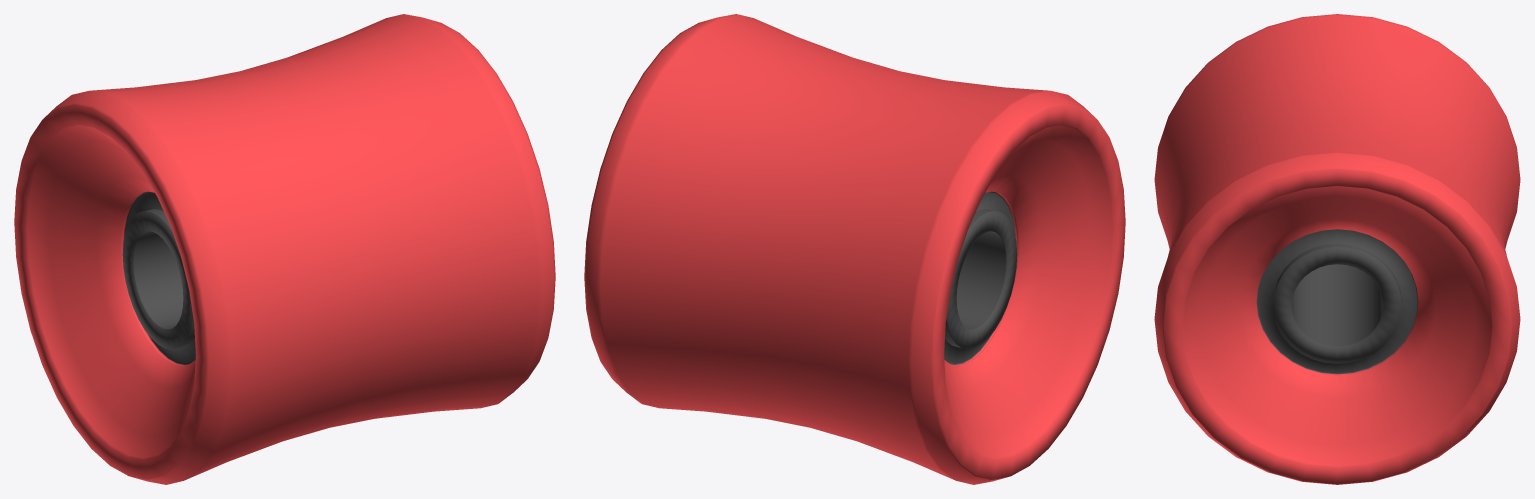
The model's file is RoueCollège.fbx.
3 renders of one model, left to right at view 1: azimuth 30°, elevation 25°; view 2: azimuth 150°, elevation 25°; view 3: azimuth 270°, elevation 25°, orthographic. The views are drawn at different scales.
Visible parts, largest first — view 1: Cylinder; view 2: Cylinder; view 3: Cylinder.
Part boxes in pixels (<box>): Cylinder: <box>14,14,555,484</box>; Cylinder: <box>584,14,1125,484</box>; Cylinder: <box>1154,14,1520,484</box>.
Size of the model in its own units: 200 by 200 by 200.
